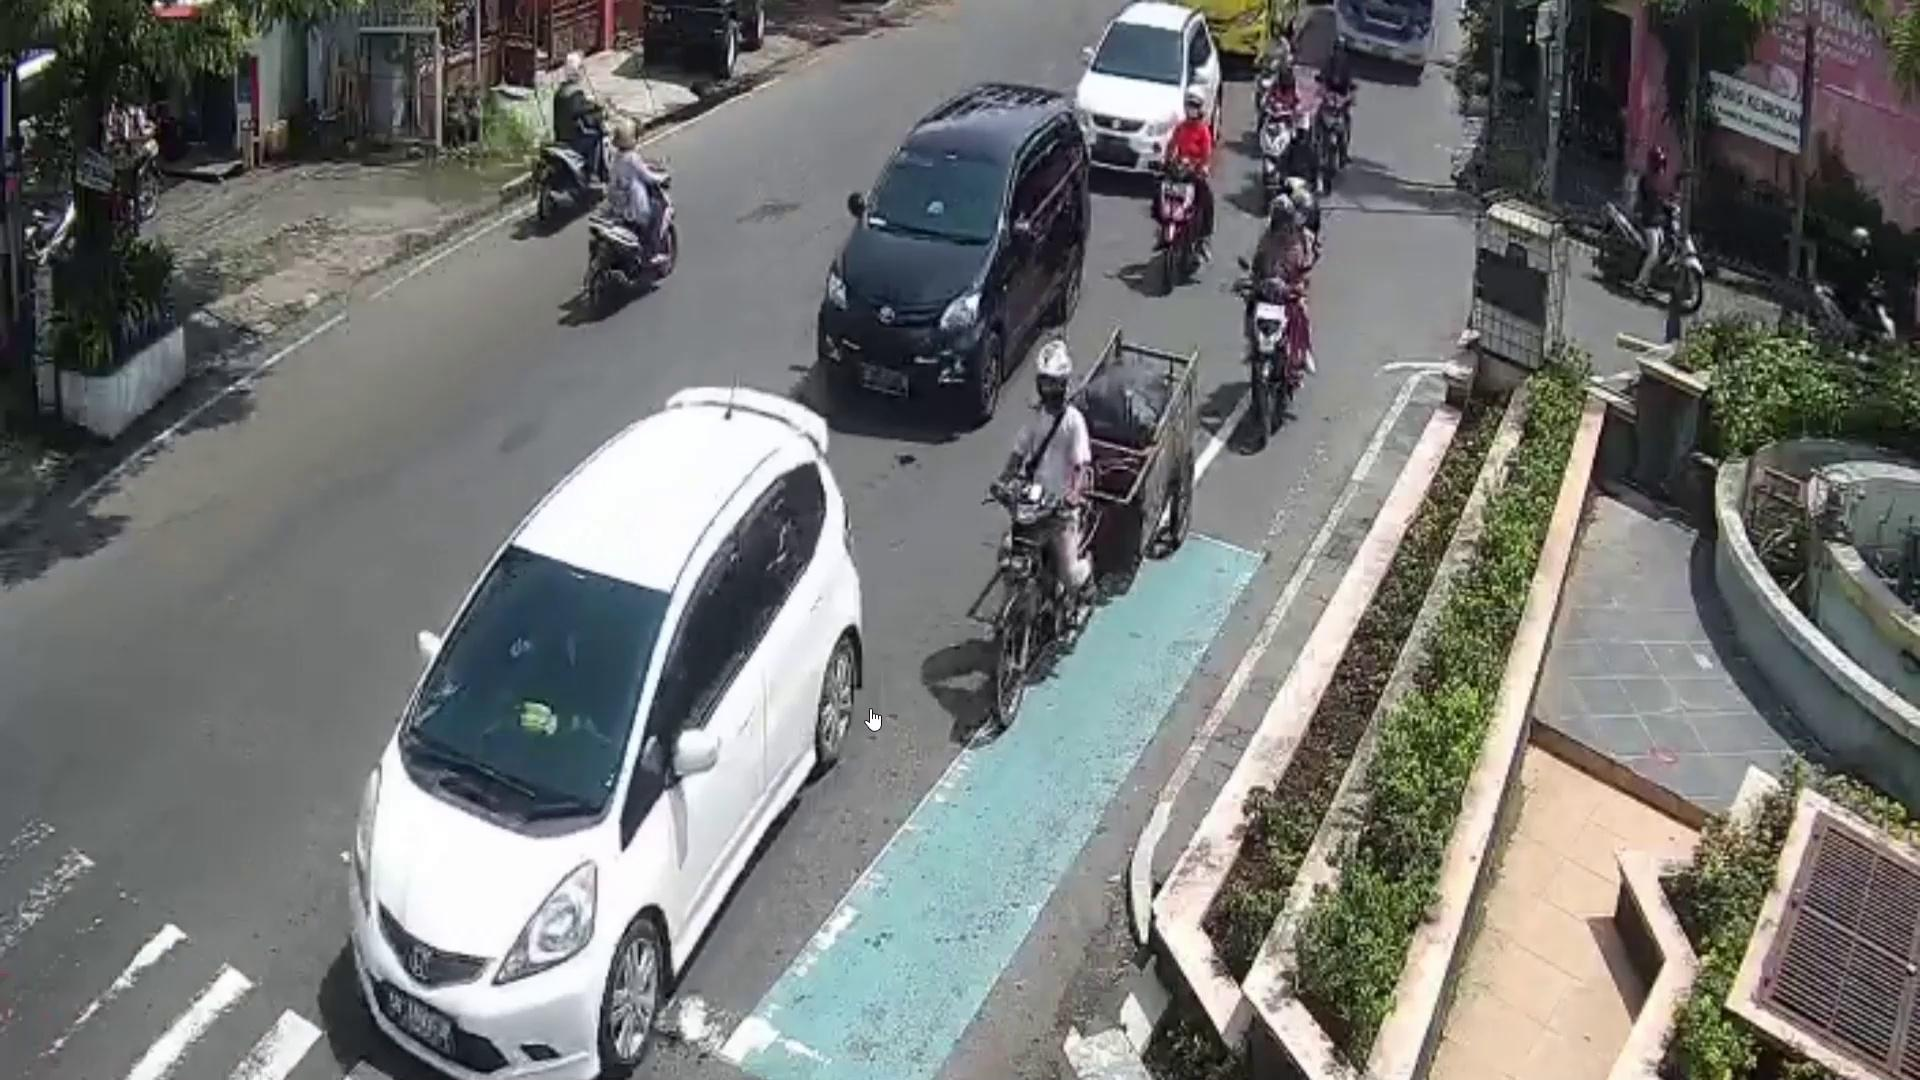car: (332, 385, 864, 1080), (816, 80, 1097, 434), (1072, 1, 1229, 185)
motorbike: (977, 487, 1075, 727), (580, 160, 700, 301), (1600, 189, 1709, 320), (527, 90, 630, 214), (1242, 278, 1307, 442), (1155, 158, 1209, 280), (1254, 100, 1302, 210), (1320, 83, 1357, 203)
